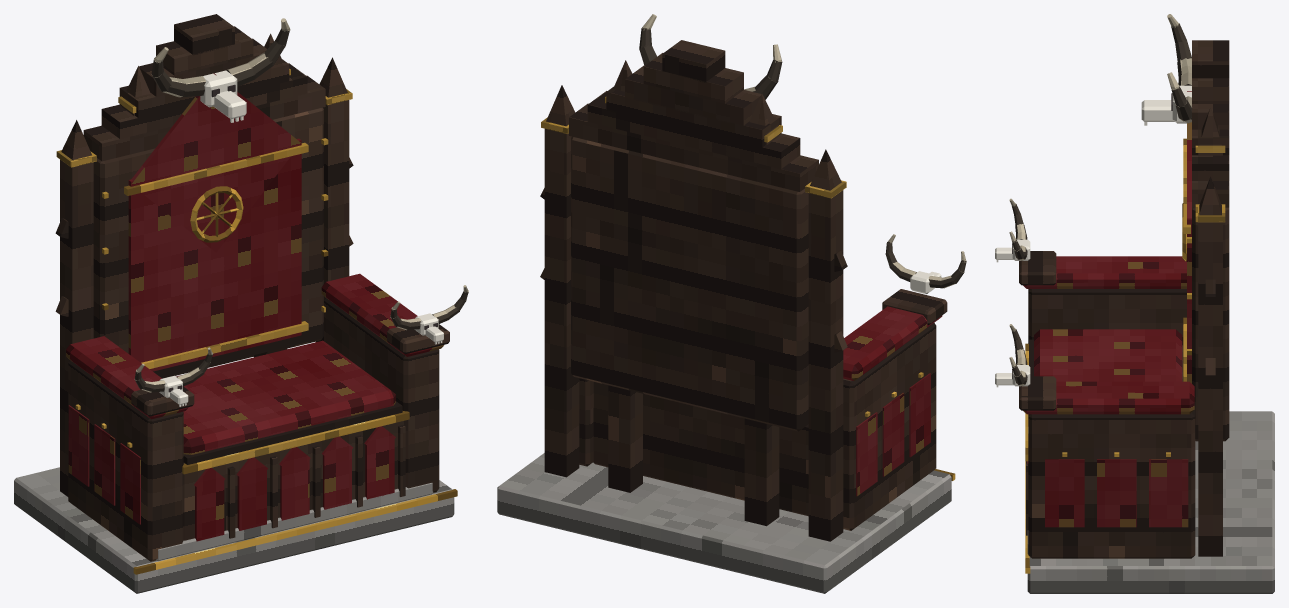
File: boss_throne.obj
3 renders of one model, left to right at view 1: azimuth 30°, elevation 25°; view 2: azimuth 150°, elevation 25°; view 3: azimuth 270°, elevation 25°, orthographic. The views are drawn at different scales.
Parts seen in each view (by area): view 1: boss_throne; view 2: boss_throne; view 3: boss_throne.
Part boxes in pixels (bbox=[...]): boss_throne: bbox=[14, 14, 468, 593]; boss_throne: bbox=[497, 14, 966, 593]; boss_throne: bbox=[995, 14, 1274, 593].
Bounding box in the file's own units: 3.12 × 4.23 × 2.26.
